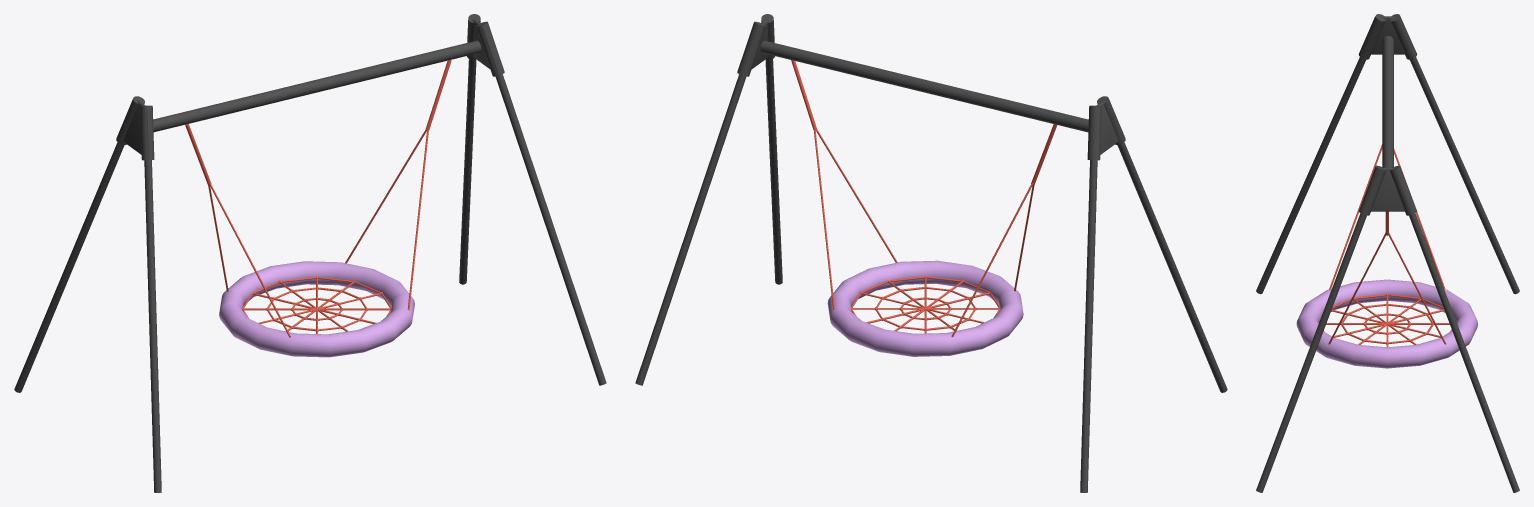
The model's file is Columpio_02.fbx.
3 views of the same model, side by side, from view 1: azimuth 30°, elevation 25°; view 2: azimuth 150°, elevation 25°; view 3: azimuth 270°, elevation 25° (orthographic). The views are drawn at different scales.
Visible parts, largest first — view 1: Columpio_02.109, Columpio_02.156, Columpio_02.122, Columpio_02.135, Columpio_02.113, Columpio_02.126, Columpio_02.110, Columpio_02.119, Columpio_02.132; view 2: Columpio_02.109, Columpio_02.156, Columpio_02.113, Columpio_02.126, Columpio_02.122, Columpio_02.135, Columpio_02.116, Columpio_02.129; view 3: Columpio_02.109, Columpio_02.126, Columpio_02.135, Columpio_02.113, Columpio_02.122, Columpio_02.156, Columpio_02.123, Columpio_02.129, Columpio_02.132, Columpio_02.110, Columpio_02.116, Columpio_02.119 (+1 smaller).
Boxes of the visible parts, <box> form: Columpio_02.109: <box>219,261,414,357</box>; Columpio_02.156: <box>153,40,481,132</box>; Columpio_02.122: <box>144,160,161,492</box>; Columpio_02.135: <box>495,74,606,385</box>; Columpio_02.113: <box>14,142,124,392</box>; Columpio_02.126: <box>459,59,476,284</box>; Columpio_02.110: <box>123,100,149,159</box>; Columpio_02.119: <box>140,105,154,160</box>; Columpio_02.132: <box>476,22,504,76</box>; Columpio_02.109: <box>827,260,1023,356</box>; Columpio_02.156: <box>760,40,1088,132</box>; Columpio_02.113: <box>1080,160,1097,492</box>; Columpio_02.126: <box>635,74,746,385</box>; Columpio_02.122: <box>1117,142,1227,392</box>; Columpio_02.135: <box>765,59,782,284</box>; Columpio_02.116: <box>1087,105,1101,160</box>; Columpio_02.129: <box>737,22,765,76</box>; Columpio_02.109: <box>1296,279,1477,368</box>; Columpio_02.126: <box>1409,213,1519,492</box>; Columpio_02.135: <box>1256,213,1366,492</box>; Columpio_02.113: <box>1410,57,1519,294</box>; Columpio_02.122: <box>1256,57,1365,294</box>; Columpio_02.156: <box>1382,36,1393,167</box>; Columpio_02.123: <box>1371,167,1404,211</box>; Columpio_02.129: <box>1390,166,1417,215</box>; Columpio_02.132: <box>1358,166,1385,215</box>; Columpio_02.110: <box>1360,16,1404,54</box>; Columpio_02.116: <box>1390,16,1417,59</box>; Columpio_02.119: <box>1358,16,1385,59</box>.
Size of the model in its own units: 38.56 by 26.81 by 21.24.
